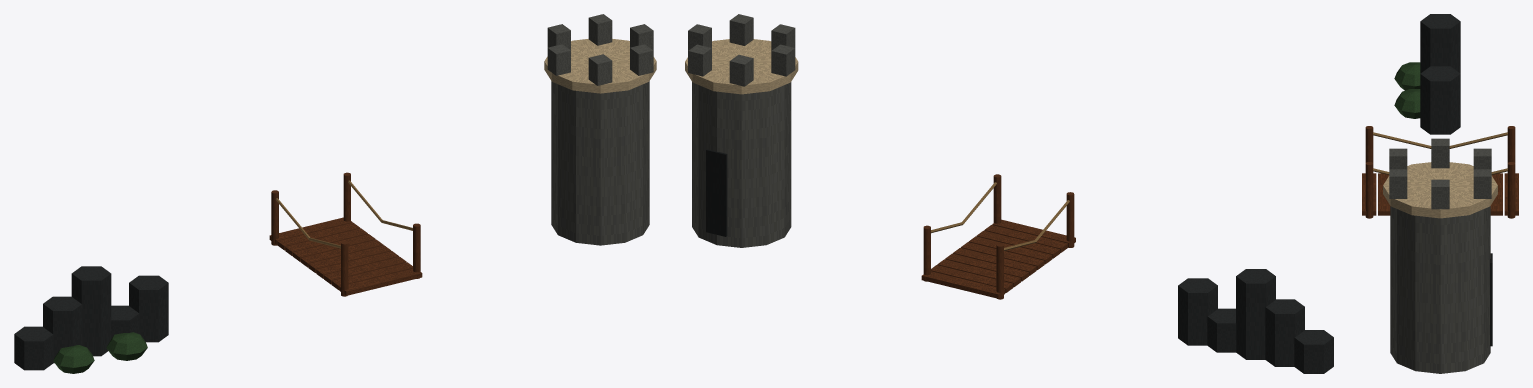
The model's file is KIT_holders_wake_back_routes.gltf.
3 views of the same model, side by side, from view 1: azimuth 30°, elevation 25°; view 2: azimuth 150°, elevation 25°; view 3: azimuth 270°, elevation 25° (orthographic). The views are drawn at different scales.
Visible parts, largest first — view 1: 03_tower, 01_cliff, 02_bridge; view 2: 03_tower, 01_cliff, 02_bridge; view 3: 03_tower, 01_cliff, 02_bridge.
Boxes of the visible parts, x1,y1,x2,y2 form: 03_tower: (544, 14, 656, 245); 01_cliff: (14, 266, 168, 373); 02_bridge: (269, 172, 422, 296); 03_tower: (685, 14, 798, 247); 01_cliff: (1178, 269, 1333, 373); 02_bridge: (921, 174, 1075, 299); 03_tower: (1383, 138, 1497, 373); 01_cliff: (1394, 14, 1460, 134); 02_bridge: (1362, 126, 1518, 218).
Size of the model in its own units: 13.61 by 3.96 by 2.87.
7 materials, 7 textured.
